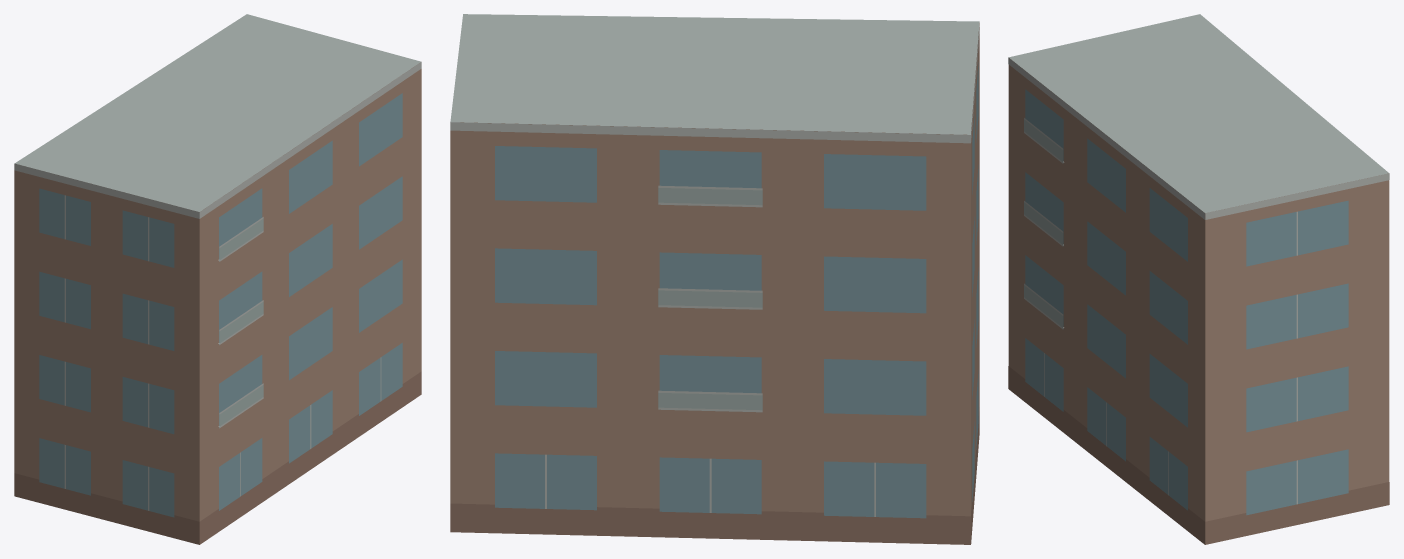
Rendered from survey-upis-32485768.glb.
3 renders of one model, left to right at view 1: azimuth 30°, elevation 25°; view 2: azimuth 150°, elevation 25°; view 3: azimuth 270°, elevation 25°, orthographic. The views are drawn at different scales.
Parts seen in each view (by area): view 1: survey-upis-32485768.tmp; view 2: survey-upis-32485768.tmp; view 3: survey-upis-32485768.tmp.
Part boxes in pixels (x1,y1,x2,y2): survey-upis-32485768.tmp: (14,14,421,544); survey-upis-32485768.tmp: (450,14,979,544); survey-upis-32485768.tmp: (1008,14,1389,544).
Bounding box in the file's own units: 15.21 × 11.8 × 12.29.
